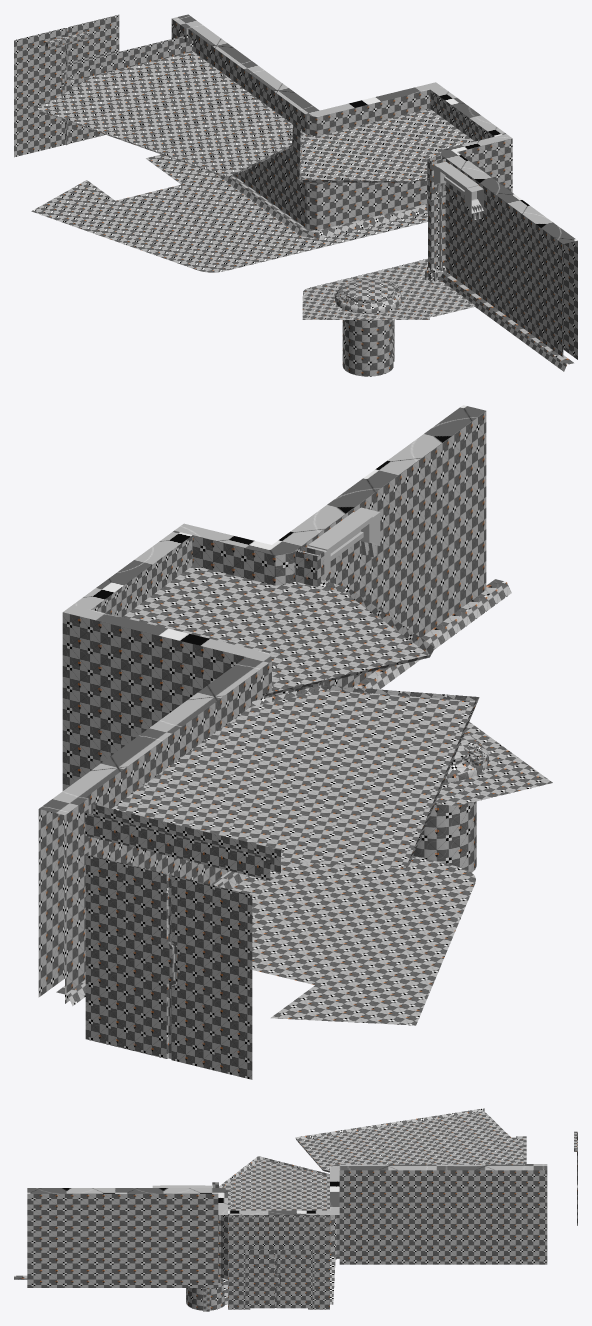
Rendered from Tutor_floor_Gameready.FBX.
The picture shows the model from 3 angles, top to bottom: view 1: azimuth 30°, elevation 25°; view 2: azimuth 150°, elevation 25°; view 3: azimuth 270°, elevation 25°; orthographic projection. The views are drawn at different scales.
Visible parts, largest first — view 1: Plane106, sse; view 2: Plane106, sse; view 3: Plane106, sse.
Boxes of the visible parts, x1,y1,x2,y2 form: Plane106: (31, 14, 577, 376); sse: (14, 14, 483, 303); Plane106: (38, 405, 552, 1025); sse: (85, 507, 486, 1079); Plane106: (14, 1108, 547, 1311); sse: (152, 1131, 577, 1282).
Bounding box in the file's own units: 1581 × 887 × 3111.
Materials: 2 (1 with a texture image).
